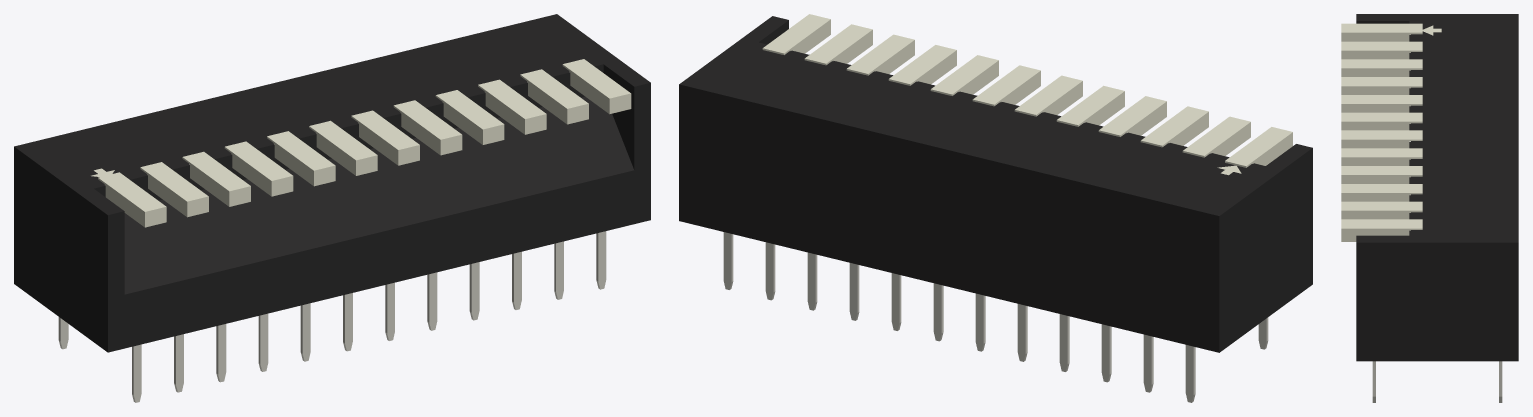
The model's file is kc-sw_dip_spstx12_piano_cts_series194-12mstn_w7.62mm_p2.54mm.glb.
The picture shows the model from 3 angles, left to right: view 1: azimuth 30°, elevation 25°; view 2: azimuth 150°, elevation 25°; view 3: azimuth 270°, elevation 25°; orthographic projection. The views are drawn at different scales.
Visible parts, largest first — view 1: 0_0_0_0, 0.75_0.75_0.6666666666666666_0, 0.6666666666666666_0.6666666666666666_0.5833333333333334_0.8; view 2: 0_0_0_0, 0.75_0.75_0.6666666666666666_0, 0.6666666666666666_0.6666666666666666_0.5833333333333334_0.8; view 3: 0_0_0_0, 0.75_0.75_0.6666666666666666_0, 0.6666666666666666_0.6666666666666666_0.5833333333333334_0.8.
Part boxes in pixels (bbox=[...]): 0_0_0_0: bbox=[14, 14, 650, 352]; 0.75_0.75_0.6666666666666666_0: bbox=[91, 59, 631, 227]; 0.6666666666666666_0.6666666666666666_0.5833333333333334_0.8: bbox=[58, 231, 606, 402]; 0_0_0_0: bbox=[679, 16, 1312, 352]; 0.75_0.75_0.6666666666666666_0: bbox=[762, 14, 1292, 175]; 0.6666666666666666_0.6666666666666666_0.5833333333333334_0.8: bbox=[723, 232, 1268, 402]; 0_0_0_0: bbox=[1356, 14, 1518, 361]; 0.75_0.75_0.6666666666666666_0: bbox=[1341, 23, 1441, 241]; 0.6666666666666666_0.6666666666666666_0.5833333333333334_0.8: bbox=[1372, 361, 1502, 402].
Size of the model in its own units: 3.27 by 1.19 by 1.07.
